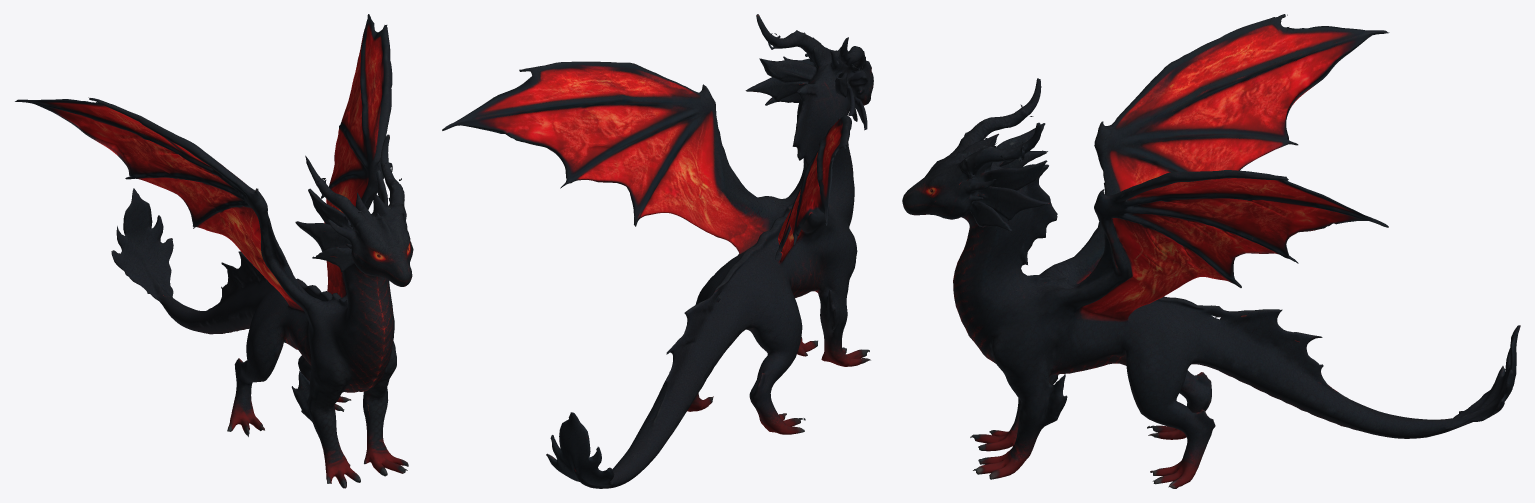
Rendered from lava_dragon.glb.
3 views of the same model, side by side, from view 1: azimuth 30°, elevation 25°; view 2: azimuth 150°, elevation 25°; view 3: azimuth 270°, elevation 25° (orthographic). The views are drawn at different scales.
Bounding box in the file's own units: 1.49 × 1.29 × 2.
1 material, 1 textured.
